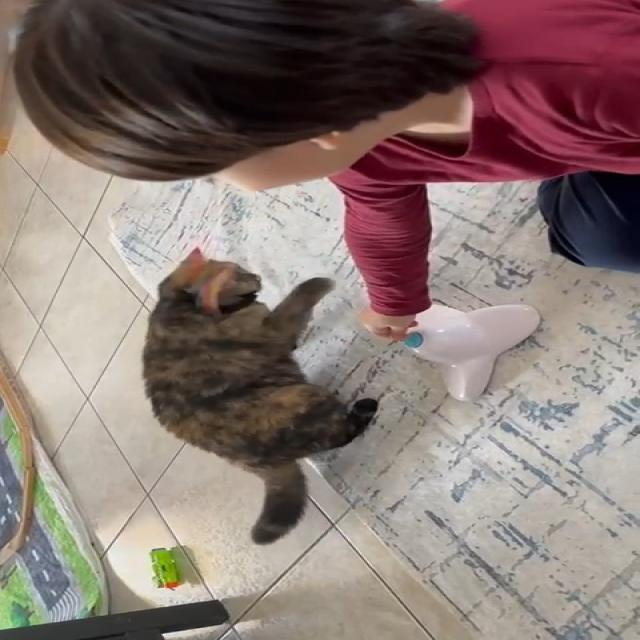authorized: (140, 246, 379, 545)
